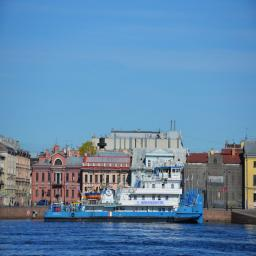tugboat: (43, 151, 207, 227)
